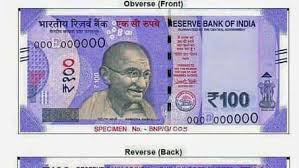hundred: (33, 31, 268, 114)
